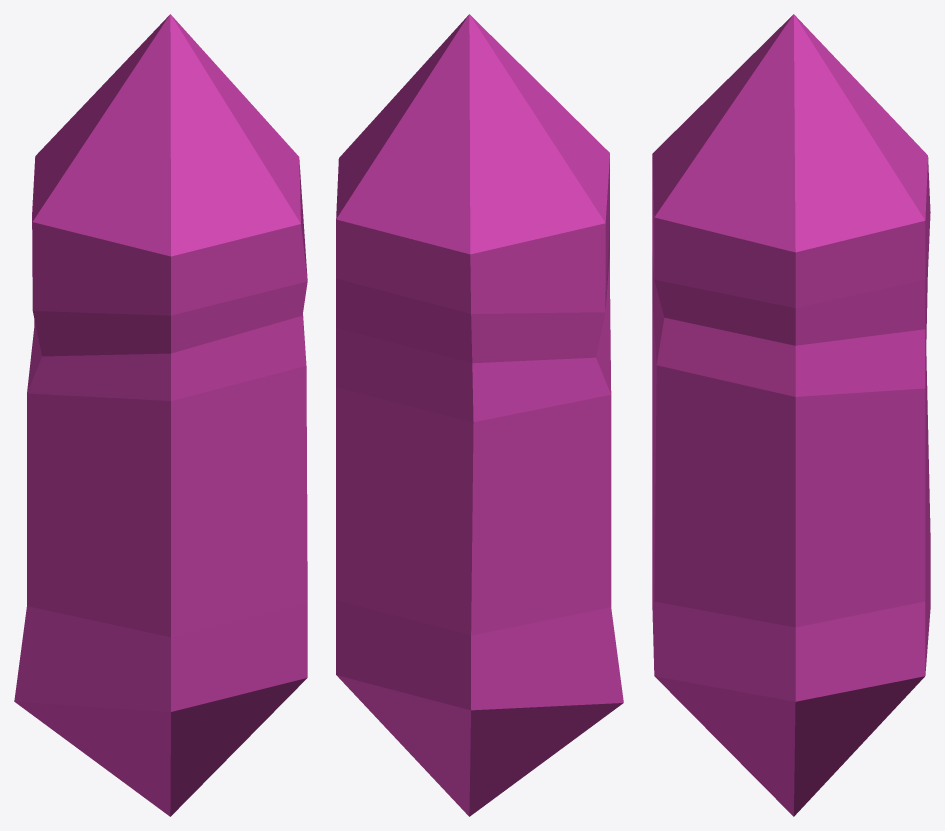
Rendered from Crystal2_Damaged.glb.
3 views of the same model, side by side, from view 1: azimuth 30°, elevation 25°; view 2: azimuth 150°, elevation 25°; view 3: azimuth 270°, elevation 25° (orthographic).
Parts seen in each view (by area): view 1: Crystal2_Damaged; view 2: Crystal2_Damaged; view 3: Crystal2_Damaged.
Part boxes in pixels (left/top/right/bottom): Crystal2_Damaged: left=14, top=14, right=307, bottom=816; Crystal2_Damaged: left=336, top=14, right=623, bottom=816; Crystal2_Damaged: left=652, top=14, right=930, bottom=816.
Bounding box in the file's own units: 0.3359 × 0.8957 × 0.2811.
